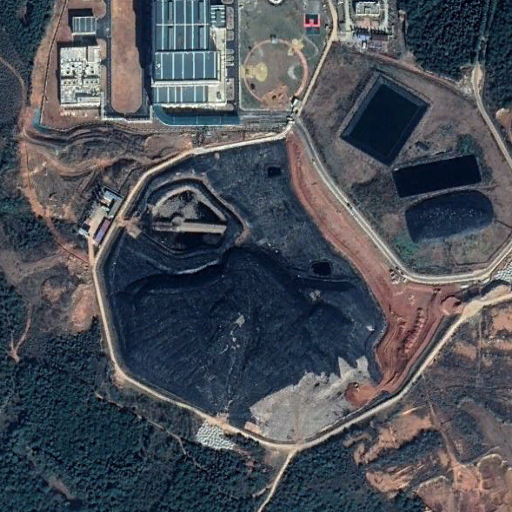lf: (97, 138, 394, 443)
